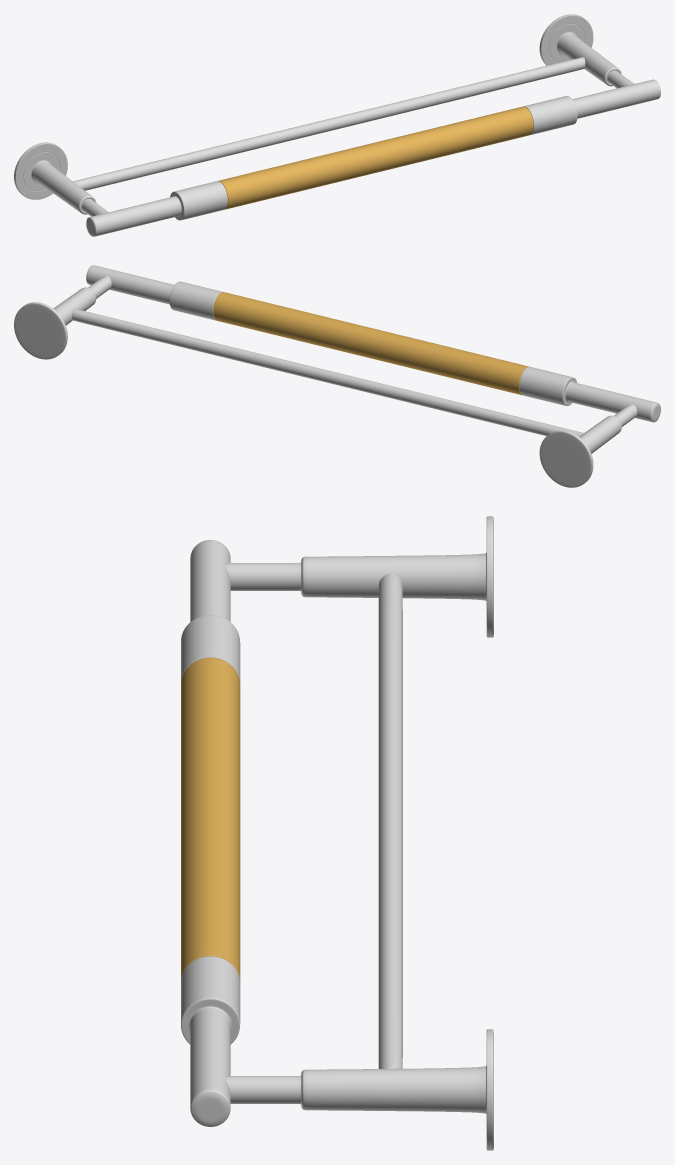
The model's file is holder.glb.
The picture shows the model from 3 angles, top to bottom: view 1: azimuth 30°, elevation 25°; view 2: azimuth 150°, elevation 25°; view 3: azimuth 270°, elevation 25°; orthographic projection. The views are drawn at different scales.
Visible parts, largest first — view 1: Cylinder; view 2: Cylinder; view 3: Cylinder.
Boxes of the visible parts, bbox=[...] form: Cylinder: bbox=[14, 14, 660, 236]; Cylinder: bbox=[14, 265, 660, 487]; Cylinder: bbox=[181, 516, 493, 1150].
Size of the model in its own units: 11.36 by 1.03 by 2.67.
